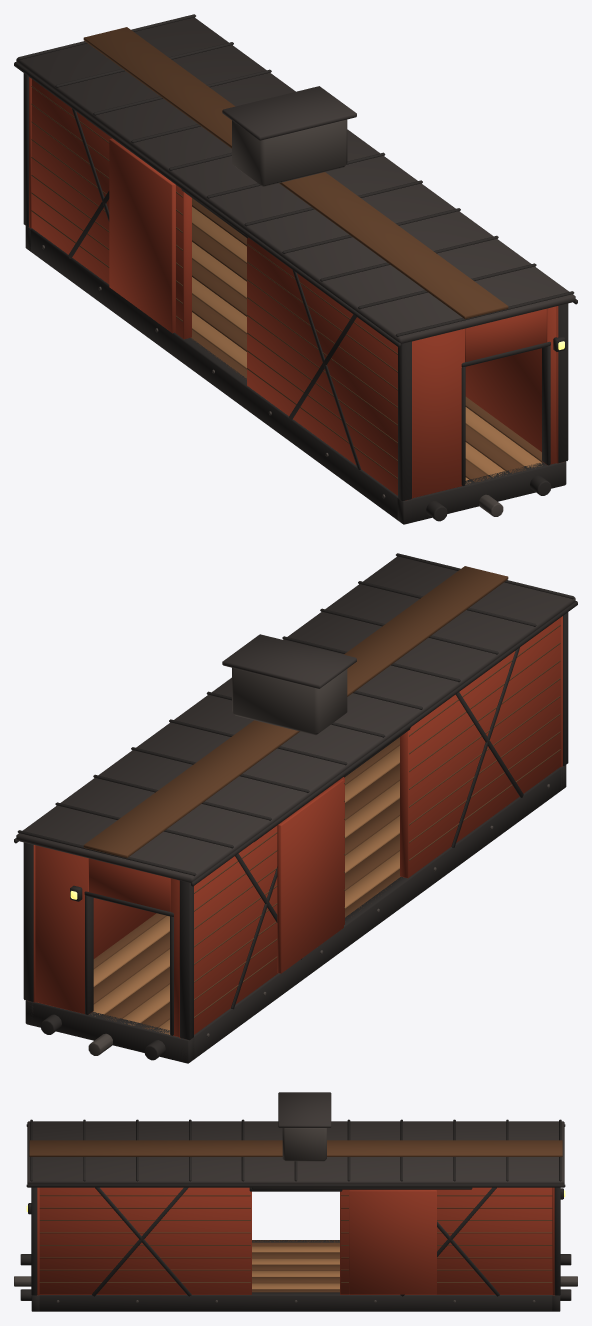
The model's file is car_freight.glb.
The picture shows the model from 3 angles, top to bottom: view 1: azimuth 30°, elevation 25°; view 2: azimuth 150°, elevation 25°; view 3: azimuth 270°, elevation 25°; orthographic projection. The views are drawn at different scales.
Visible parts, largest first — view 1: roofsheet, wb-1, walkway, wf-1, door-1, sill-1, end_l-5.9, wb1, vent, ventcap, endbeam-6.0, end_t-5.9 (+15 smaller); view 2: roofsheet, wb-1, walkway, wf-1, door-1, sill-1, end_r5.9, vent, ventcap, endbeam6.0, end_t5.9, wf1 (+15 smaller); view 3: roofsheet, wb1, wf1, door1, sill1, walkway, gutter1, ventcap, vent, post1-5.94, post15.94, drail1 (+20 smaller).
Boxes of the visible parts, x1,y1,x2,y2 form: roofsheet: (16, 17, 575, 343); wb-1: (247, 237, 412, 500); walkway: (83, 27, 508, 319); wf-1: (31, 79, 191, 339); door-1: (109, 138, 175, 333); sill-1: (26, 227, 411, 524); end_l-5.9: (412, 328, 464, 497); wb1: (465, 306, 564, 463); vent: (232, 119, 347, 186); ventcap: (222, 86, 356, 140); endbeam-6.0: (397, 461, 566, 524); end_t-5.9: (465, 308, 546, 361); roofsheet: (16, 556, 575, 882); wb-1: (400, 618, 560, 878); walkway: (83, 566, 508, 858); wf-1: (179, 777, 344, 1037); door-1: (277, 779, 343, 973); sill-1: (181, 766, 565, 1062); end_r5.9: (35, 845, 92, 1014); vent: (232, 667, 347, 735); ventcap: (222, 634, 356, 688); endbeam6.0: (25, 1000, 194, 1063); end_t5.9: (88, 858, 170, 911); wf1: (33, 845, 156, 1002); roofsheet: (27, 1121, 564, 1184); wb1: (39, 1187, 251, 1294); wf1: (340, 1187, 552, 1294); door1: (349, 1189, 436, 1294); sill1: (33, 1292, 558, 1311); walkway: (29, 1140, 562, 1156); gutter1: (26, 1184, 565, 1187); ventcap: (278, 1092, 331, 1127); vent: (282, 1128, 326, 1161); post1-5.94: (31, 1187, 37, 1295); post15.94: (554, 1187, 560, 1295); drail1: (252, 1187, 472, 1189).
Bounding box in the file's own units: 3.3 × 4.45 × 12.8.
